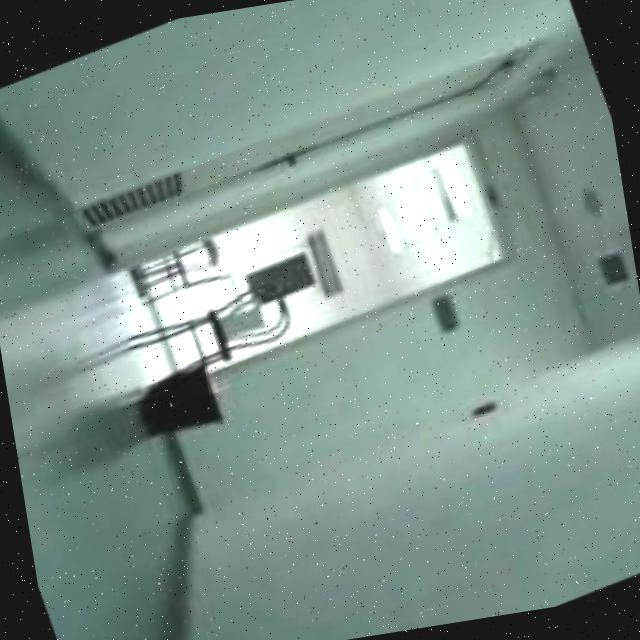fire: (217, 371, 243, 404)
